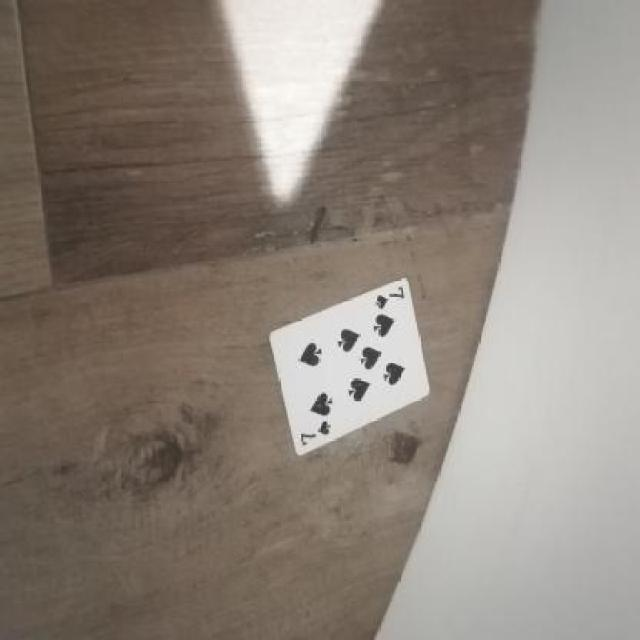7S: (287, 415, 339, 459), (370, 286, 408, 314)
